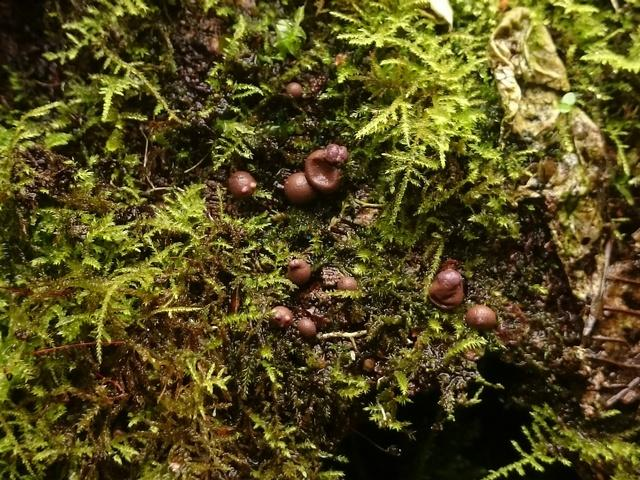Non-edible Mushroom: (303, 143, 349, 193), (426, 268, 464, 310), (282, 171, 316, 204), (464, 303, 497, 331), (226, 170, 256, 198), (286, 257, 311, 285), (268, 305, 293, 328), (324, 142, 348, 164), (295, 316, 316, 337), (336, 275, 357, 291), (285, 81, 303, 99)
